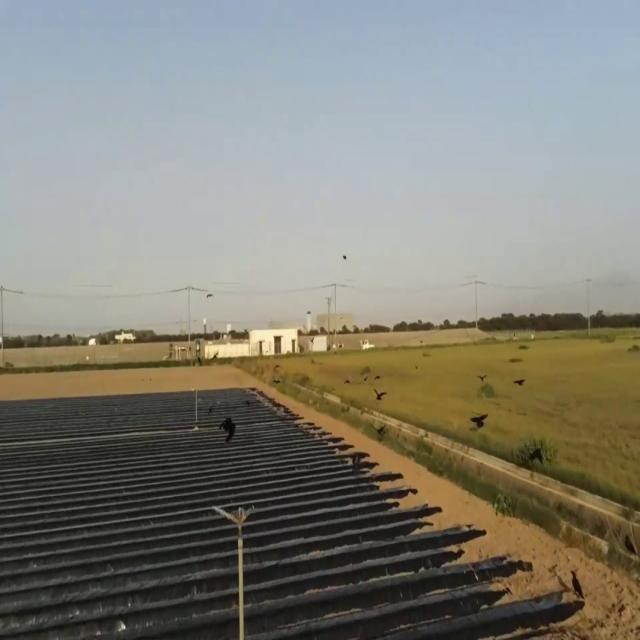bird: (570, 565, 584, 604), (222, 410, 238, 443), (470, 406, 488, 434), (624, 530, 636, 561), (533, 442, 545, 468), (374, 383, 386, 405), (514, 370, 525, 392), (478, 367, 487, 387)
